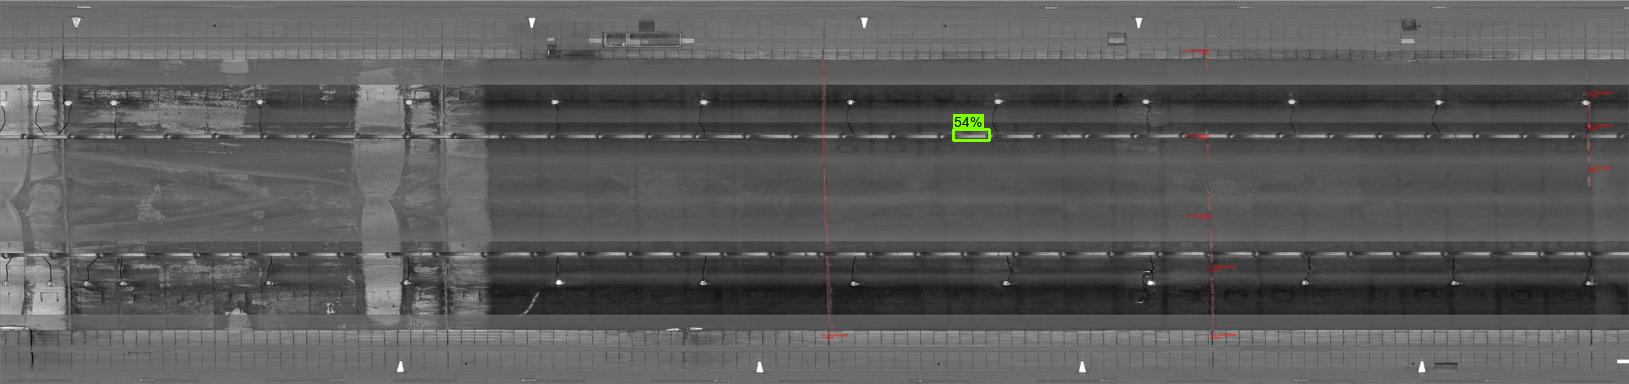light: (694, 276, 714, 289), (998, 276, 1017, 289), (1142, 276, 1160, 289), (251, 95, 270, 108), (549, 277, 570, 287), (106, 95, 123, 109), (1431, 95, 1448, 108), (694, 95, 712, 108), (844, 279, 866, 289), (1297, 277, 1315, 289), (1284, 93, 1300, 107), (401, 95, 417, 109), (1137, 95, 1154, 107), (1447, 276, 1463, 289), (1581, 277, 1597, 290), (548, 95, 563, 108), (842, 95, 857, 108), (262, 277, 278, 289), (60, 97, 77, 108), (1579, 95, 1593, 109), (80, 278, 97, 289), (399, 277, 413, 289), (27, 95, 42, 107), (116, 278, 132, 289), (992, 94, 1004, 107), (43, 278, 56, 289), (1, 278, 14, 289), (1, 97, 9, 109)
